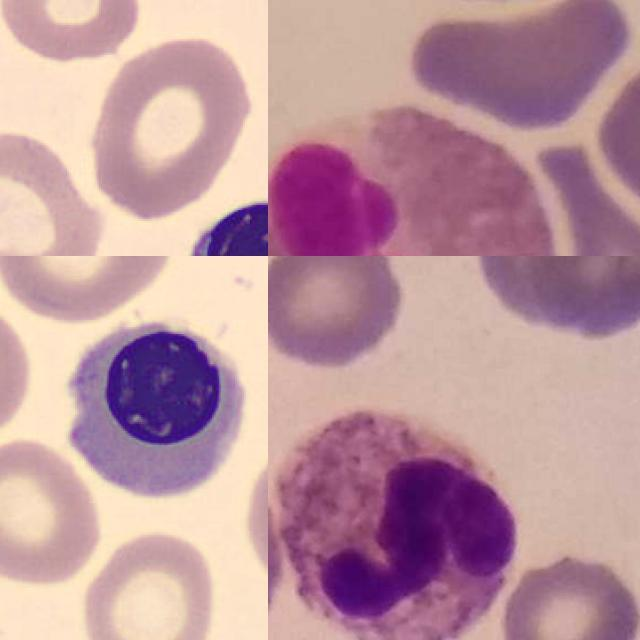Eosinophil: (268, 102, 558, 256)
Lymphocyte: (51, 311, 257, 509), (164, 187, 268, 256)
Neutrophil: (276, 410, 520, 640)
RBC: (81, 30, 259, 221), (75, 526, 221, 640), (0, 434, 103, 589), (0, 125, 111, 256), (0, 256, 185, 323), (0, 0, 145, 65), (0, 295, 38, 452)
